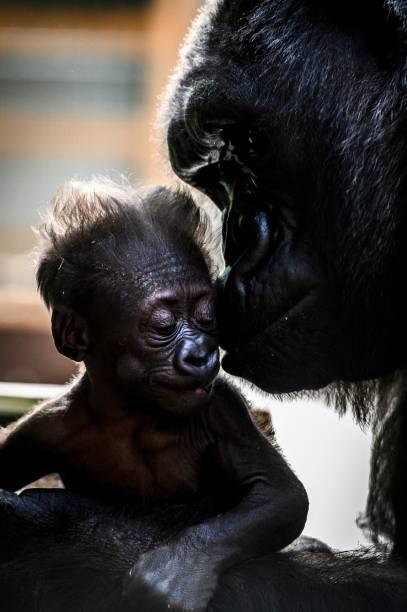gorille_Autres: (7, 2, 407, 595), (17, 215, 138, 317)
